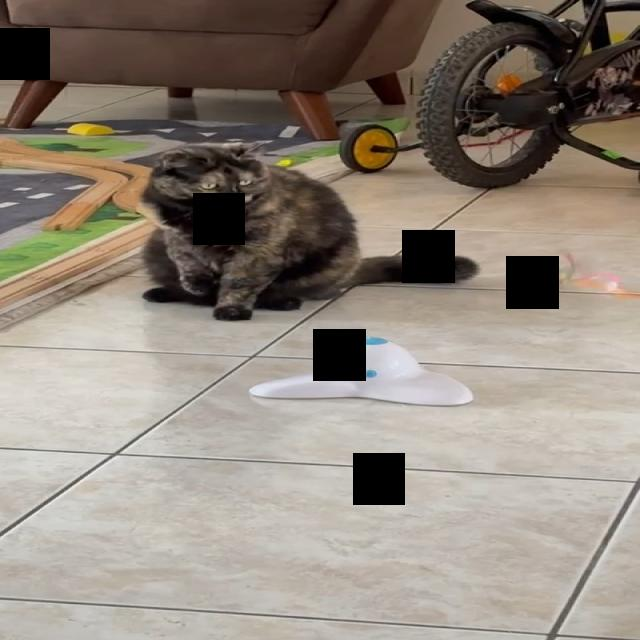authorized: (136, 139, 480, 321)
